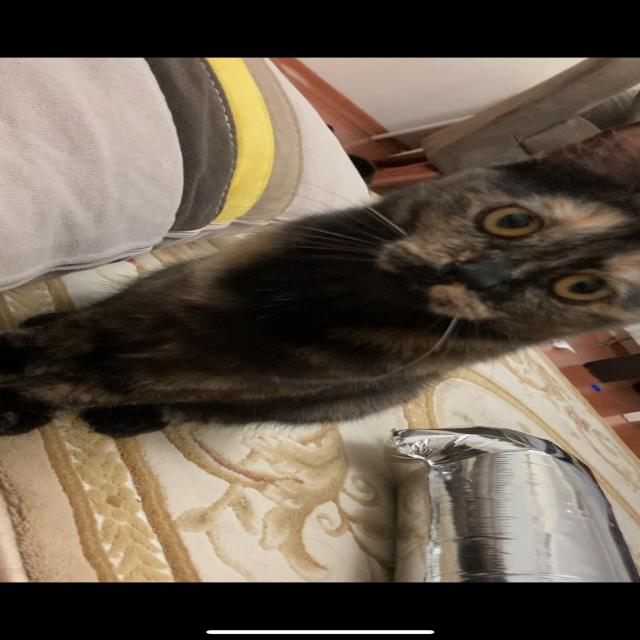authorized: (1, 121, 638, 439)
